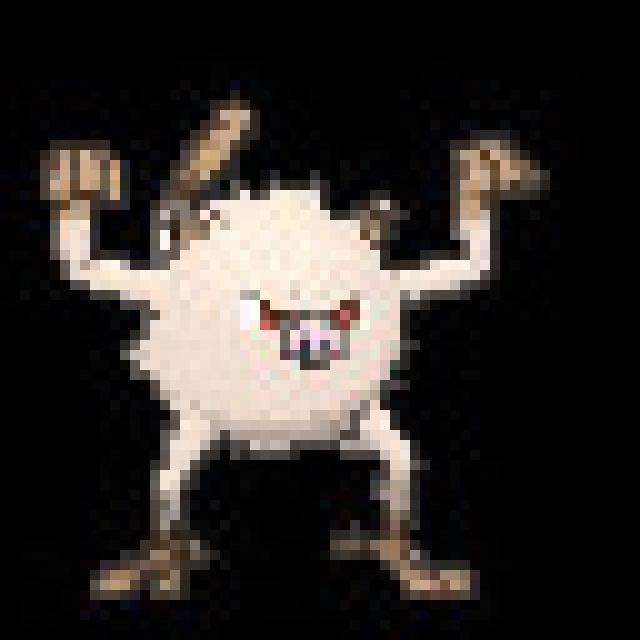Mankey: (74, 154, 497, 598)
